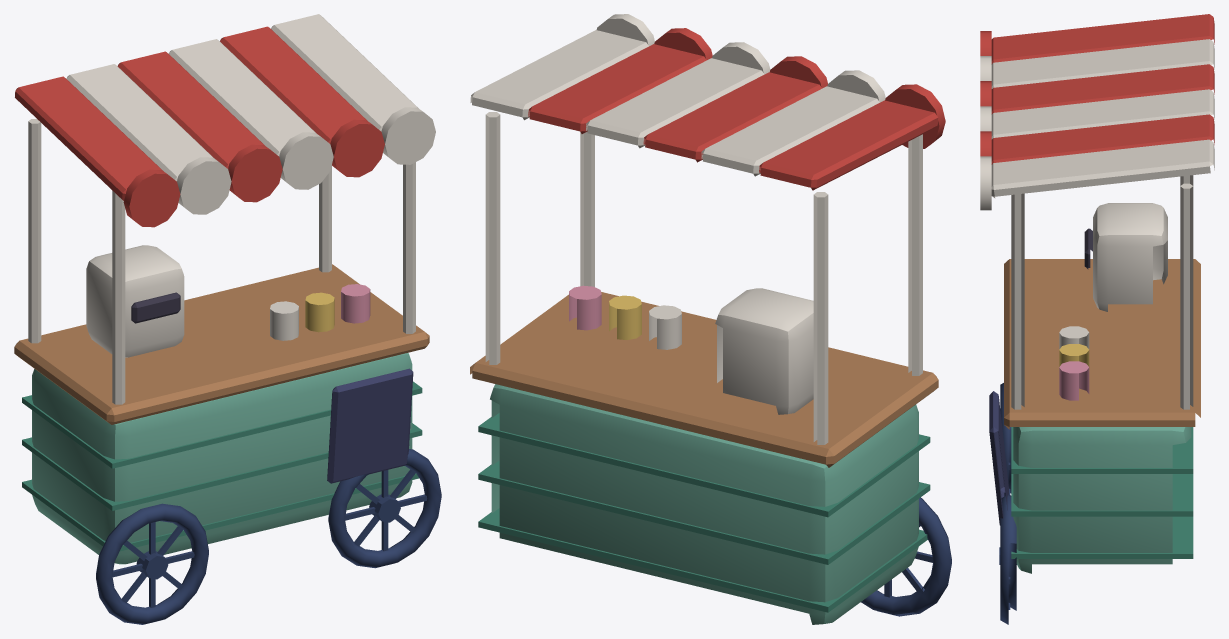
The model's file is ac_cafecart.glb.
The picture shows the model from 3 angles, left to right: view 1: azimuth 30°, elevation 25°; view 2: azimuth 150°, elevation 25°; view 3: azimuth 270°, elevation 25°; orthographic projection. The views are drawn at different scales.
Visible parts, largest first — view 1: box; view 2: box; view 3: box.
Boxes of the visible parts, left/top/right/bottom form: box: left=14, top=14, right=441, bottom=624; box: left=470, top=14, right=951, bottom=624; box: left=980, top=14, right=1214, bottom=624.
Size of the model in its own units: 2.14 by 2.78 by 1.25.
